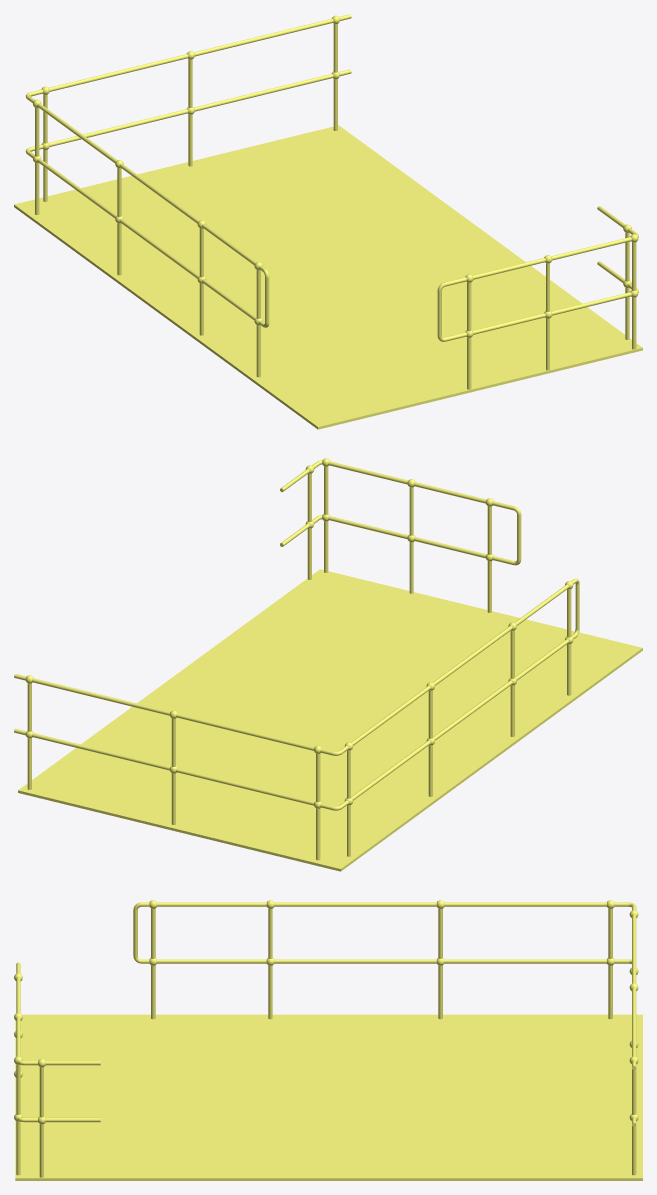
Rendered from Image-1710907554572-2281326503984_73-MA50-CRANE-UPPER-PLAT.fbx.
3 views of the same model, one above another, from view 1: azimuth 30°, elevation 25°; view 2: azimuth 150°, elevation 25°; view 3: azimuth 270°, elevation 25° (orthographic). The views are drawn at different scales.
Parts seen in each view (by area): view 1: BOX 1 of SUBSTRUCTURE 1 of STRUCTURE /73-MA50-CRANE-UPPER-PL, CYLINDER 2 of SUBSTRUCTURE 2 of STRUCTURE /73-MA50-CRANE-UPP, CYLINDER 1 of SUBSTRUCTURE 2 of STRUCTURE /73-MA50-CRANE-UPP, CYLINDER 4 of SUBSTRUCTURE 2 of STRUCTURE /73-MA50-CRANE-UPP, CYLINDER 3 of SUBSTRUCTURE 2 of STRUCTURE /73-MA50-CRANE-UPP, CYLINDER 2 of SUBSTRUCTURE 8 of STRUCTURE /73-MA50-CRANE-UPP, CYLINDER 1 of SUBSTRUCTURE 8 of STRUCTURE /73-MA50-CRANE-UPP; view 2: BOX 1 of SUBSTRUCTURE 1 of STRUCTURE /73-MA50-CRANE-UPPER-PL, CYLINDER 2 of SUBSTRUCTURE 2 of STRUCTURE /73-MA50-CRANE-UPP, CYLINDER 1 of SUBSTRUCTURE 2 of STRUCTURE /73-MA50-CRANE-UPP, CYLINDER 3 of SUBSTRUCTURE 2 of STRUCTURE /73-MA50-CRANE-UPP, CYLINDER 4 of SUBSTRUCTURE 2 of STRUCTURE /73-MA50-CRANE-UPP, CYLINDER 1 of SUBSTRUCTURE 8 of STRUCTURE /73-MA50-CRANE-UPP, CYLINDER 2 of SUBSTRUCTURE 8 of STRUCTURE /73-MA50-CRANE-UPP; view 3: BOX 1 of SUBSTRUCTURE 1 of STRUCTURE /73-MA50-CRANE-UPPER-PL, CYLINDER 3 of SUBSTRUCTURE 2 of STRUCTURE /73-MA50-CRANE-UPP, CYLINDER 4 of SUBSTRUCTURE 2 of STRUCTURE /73-MA50-CRANE-UPP, CYLINDER 2 of SUBSTRUCTURE 2 of STRUCTURE /73-MA50-CRANE-UPP, CYLINDER 1 of SUBSTRUCTURE 18 of STRUCTURE /73-MA50-CRANE-UP, CYLINDER 1 of SUBSTRUCTURE 19 of STRUCTURE /73-MA50-CRANE-UP, CYLINDER 1 of SUBSTRUCTURE 20 of STRUCTURE /73-MA50-CRANE-UP, CYLINDER 1 of SUBSTRUCTURE 21 of STRUCTURE /73-MA50-CRANE-UP, CYLINDER 1 of SUBSTRUCTURE 5 of STRUCTURE /73-MA50-CRANE-UPP, CYLINDER 1 of SUBSTRUCTURE 6 of STRUCTURE /73-MA50-CRANE-UPP, CYLINDER 1 of SUBSTRUCTURE 22 of STRUCTURE /73-MA50-CRANE-UP.
Part boxes in pixels (bbox=[...]): BOX 1 of SUBSTRUCTURE 1 of STRUCTURE /73-MA50-CRANE-UPPER-PL: bbox=[14, 125, 642, 429]; CYLINDER 2 of SUBSTRUCTURE 2 of STRUCTURE /73-MA50-CRANE-UPP: bbox=[31, 14, 351, 96]; CYLINDER 1 of SUBSTRUCTURE 2 of STRUCTURE /73-MA50-CRANE-UPP: bbox=[31, 69, 351, 151]; CYLINDER 4 of SUBSTRUCTURE 2 of STRUCTURE /73-MA50-CRANE-UPP: bbox=[26, 95, 256, 265]; CYLINDER 3 of SUBSTRUCTURE 2 of STRUCTURE /73-MA50-CRANE-UPP: bbox=[26, 151, 256, 320]; CYLINDER 2 of SUBSTRUCTURE 8 of STRUCTURE /73-MA50-CRANE-UPP: bbox=[472, 292, 631, 334]; CYLINDER 1 of SUBSTRUCTURE 8 of STRUCTURE /73-MA50-CRANE-UPP: bbox=[472, 238, 631, 279]; BOX 1 of SUBSTRUCTURE 1 of STRUCTURE /73-MA50-CRANE-UPPER-PL: bbox=[18, 569, 642, 871]; CYLINDER 2 of SUBSTRUCTURE 2 of STRUCTURE /73-MA50-CRANE-UPP: bbox=[14, 674, 332, 755]; CYLINDER 1 of SUBSTRUCTURE 2 of STRUCTURE /73-MA50-CRANE-UPP: bbox=[14, 728, 332, 809]; CYLINDER 3 of SUBSTRUCTURE 2 of STRUCTURE /73-MA50-CRANE-UPP: bbox=[340, 639, 569, 808]; CYLINDER 4 of SUBSTRUCTURE 2 of STRUCTURE /73-MA50-CRANE-UPP: bbox=[340, 584, 569, 753]; CYLINDER 1 of SUBSTRUCTURE 8 of STRUCTURE /73-MA50-CRANE-UPP: bbox=[328, 461, 486, 503]; CYLINDER 2 of SUBSTRUCTURE 8 of STRUCTURE /73-MA50-CRANE-UPP: bbox=[329, 516, 486, 558]; BOX 1 of SUBSTRUCTURE 1 of STRUCTURE /73-MA50-CRANE-UPPER-PL: bbox=[15, 1014, 642, 1180]; CYLINDER 3 of SUBSTRUCTURE 2 of STRUCTURE /73-MA50-CRANE-UPP: bbox=[157, 959, 628, 963]; CYLINDER 4 of SUBSTRUCTURE 2 of STRUCTURE /73-MA50-CRANE-UPP: bbox=[157, 902, 628, 906]; CYLINDER 2 of SUBSTRUCTURE 2 of STRUCTURE /73-MA50-CRANE-UPP: bbox=[632, 905, 636, 1069]; CYLINDER 1 of SUBSTRUCTURE 18 of STRUCTURE /73-MA50-CRANE-UP: bbox=[268, 908, 272, 1019]; CYLINDER 1 of SUBSTRUCTURE 19 of STRUCTURE /73-MA50-CRANE-UP: bbox=[151, 908, 155, 1019]; CYLINDER 1 of SUBSTRUCTURE 20 of STRUCTURE /73-MA50-CRANE-UP: bbox=[438, 908, 442, 1019]; CYLINDER 1 of SUBSTRUCTURE 21 of STRUCTURE /73-MA50-CRANE-UP: bbox=[608, 908, 612, 1019]; CYLINDER 1 of SUBSTRUCTURE 5 of STRUCTURE /73-MA50-CRANE-UPP: bbox=[16, 1064, 20, 1175]; CYLINDER 1 of SUBSTRUCTURE 6 of STRUCTURE /73-MA50-CRANE-UPP: bbox=[39, 1067, 43, 1177]; CYLINDER 1 of SUBSTRUCTURE 22 of STRUCTURE /73-MA50-CRANE-UP: bbox=[632, 1069, 636, 1175].
Bounding box in the file's own units: 3.37 × 5.36 × 1.13.
